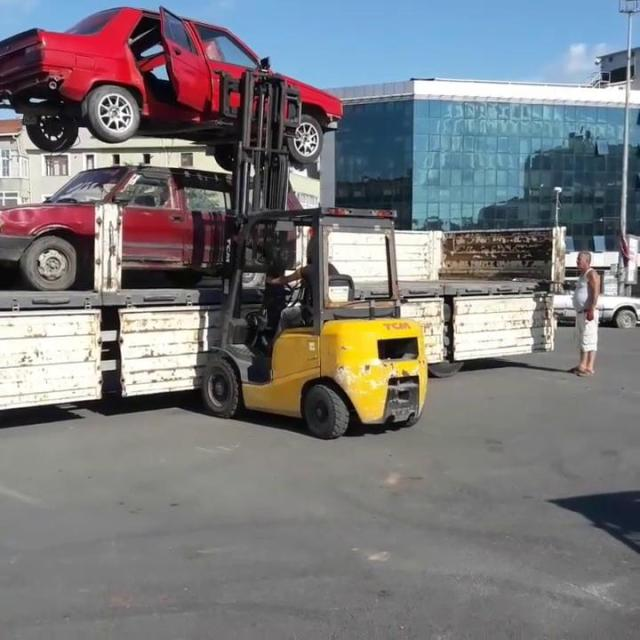forklift: (202, 204, 426, 438)
person: (267, 221, 352, 339), (561, 244, 613, 390)
